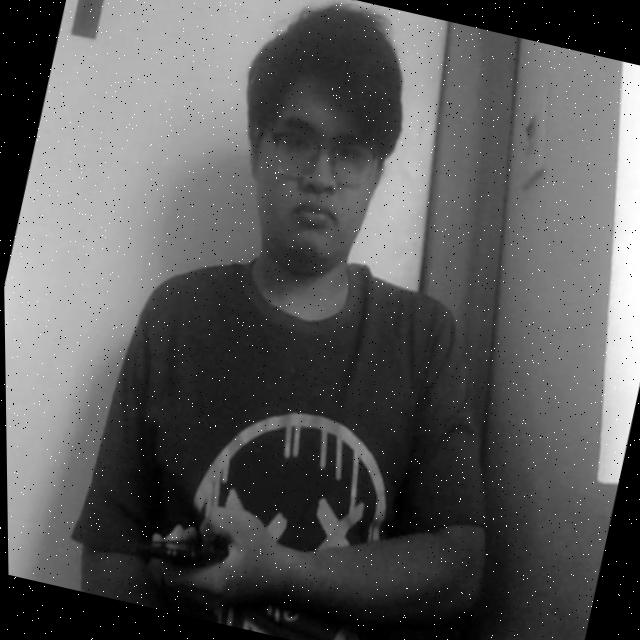phone: (130, 492, 249, 602)
